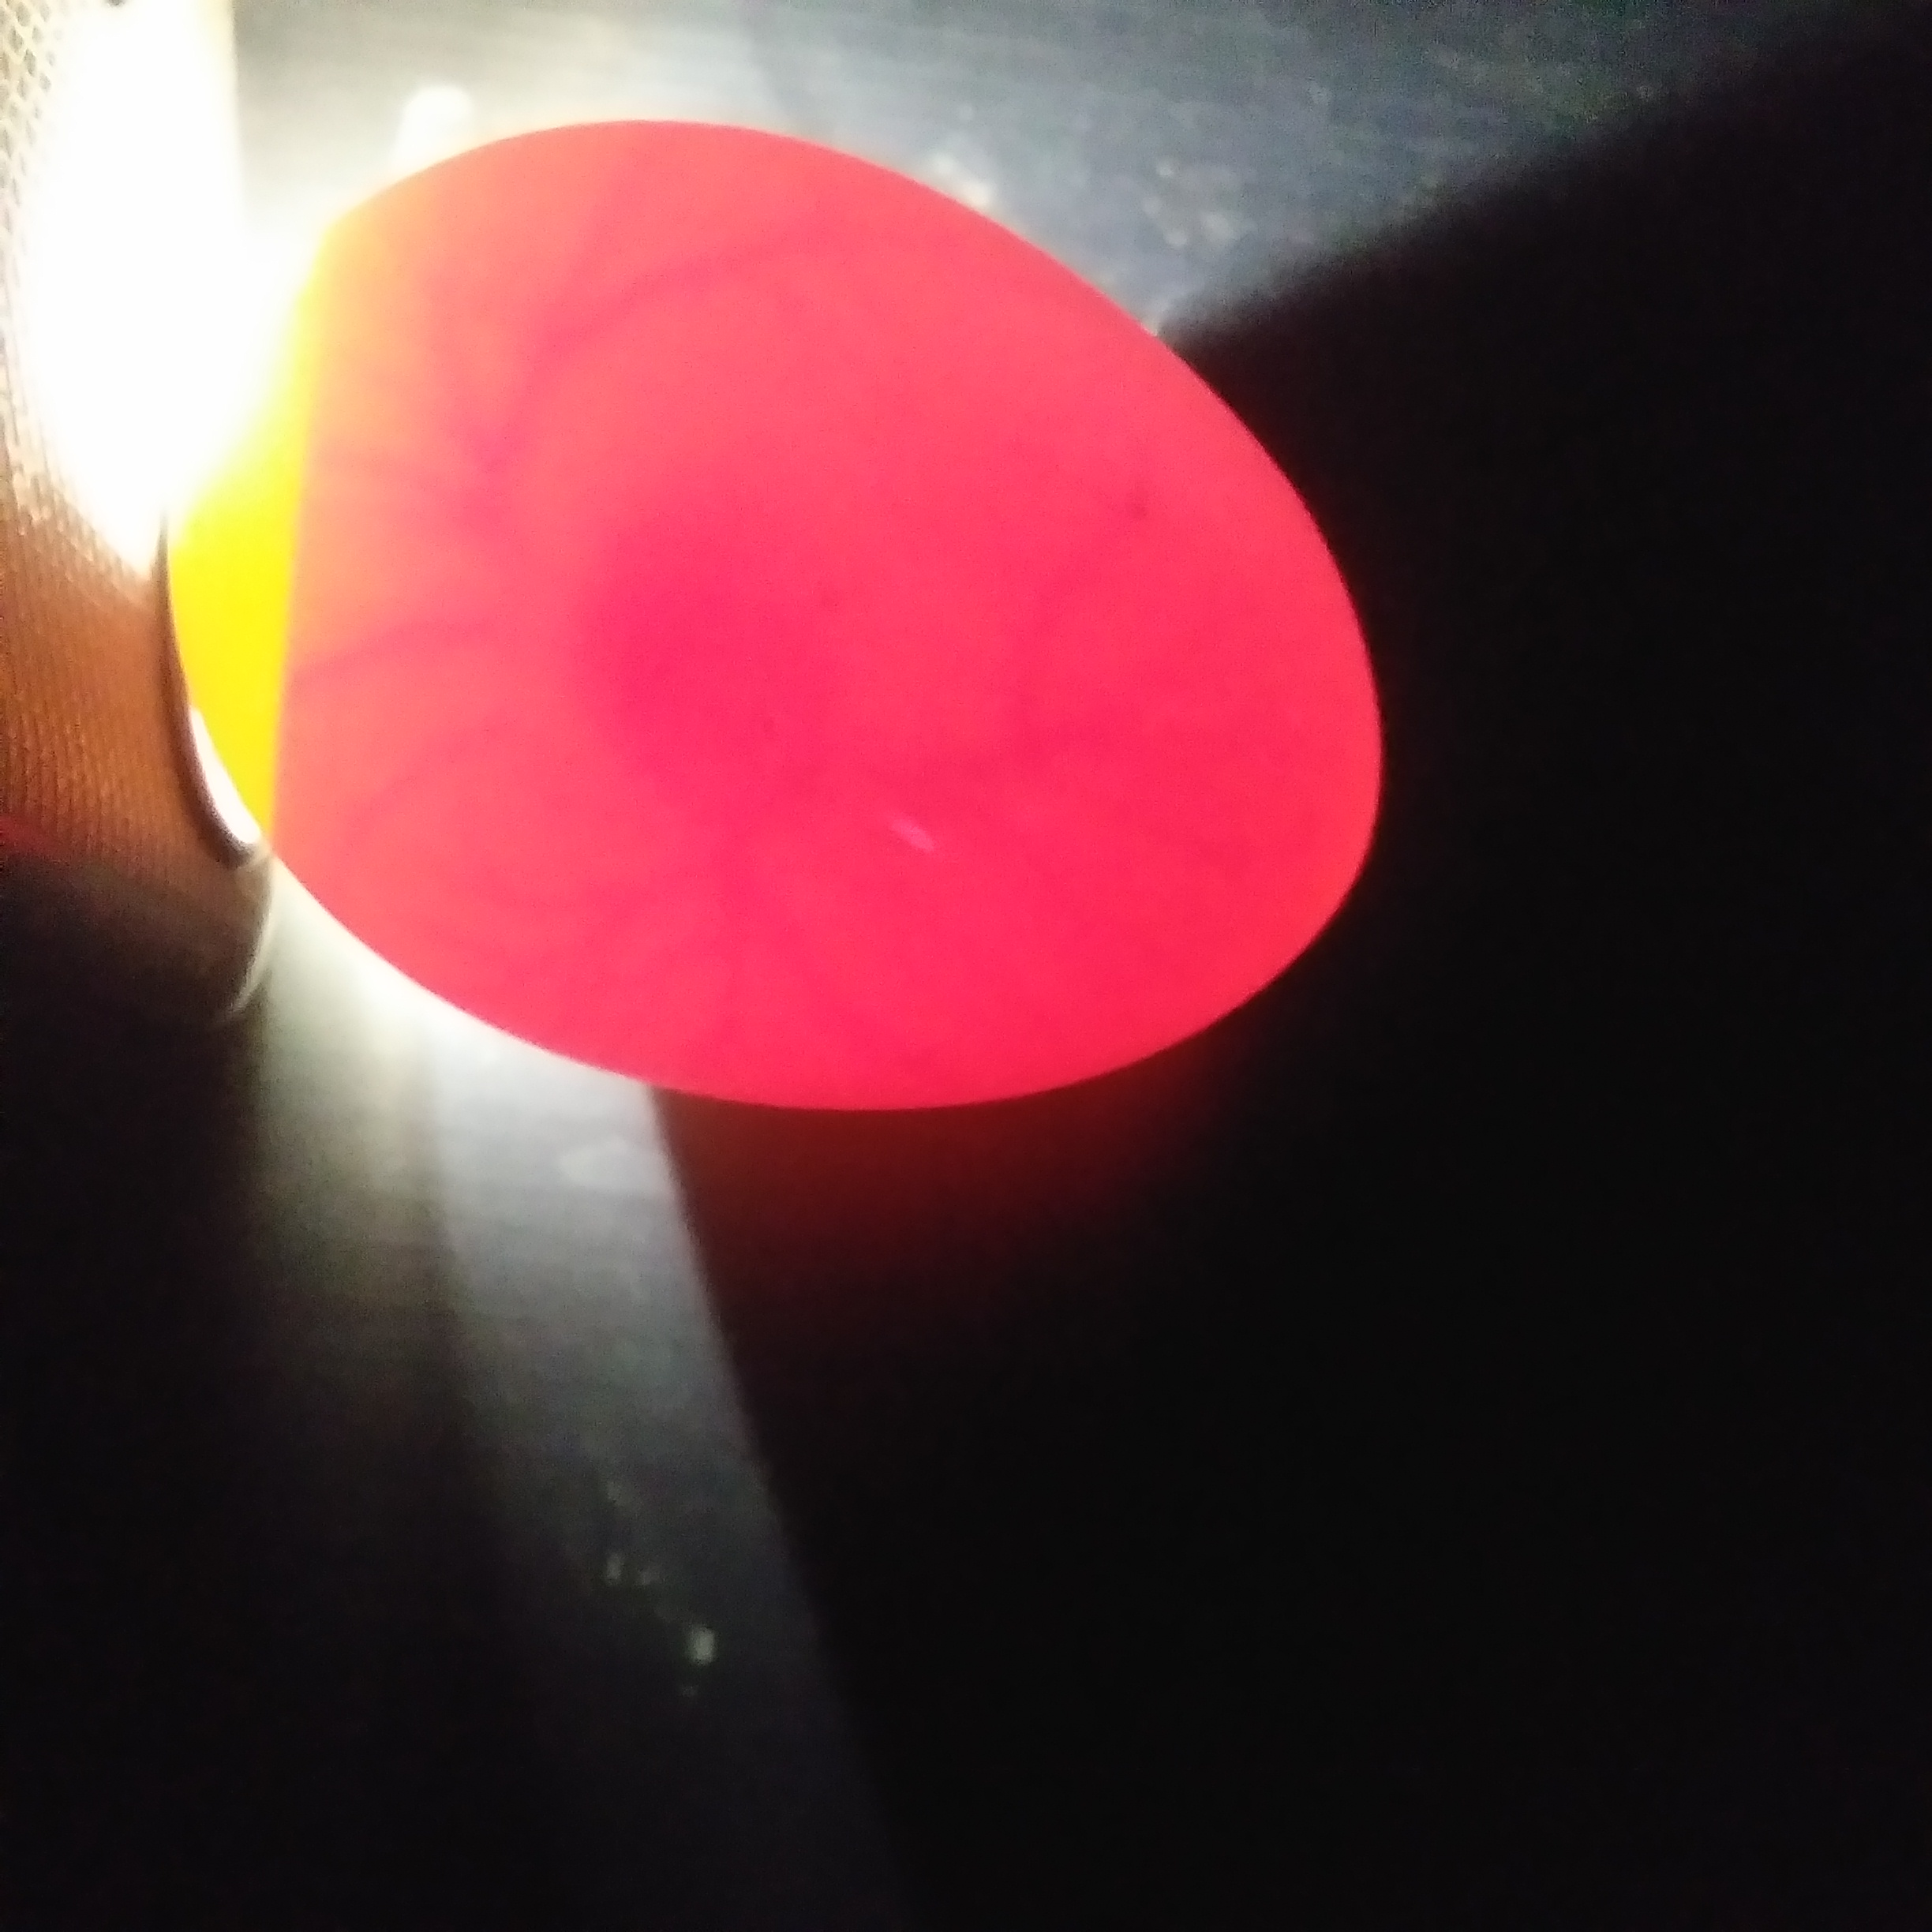bloodcell: (318, 584, 552, 929), (356, 265, 640, 504)
embryo: (575, 584, 794, 768)
